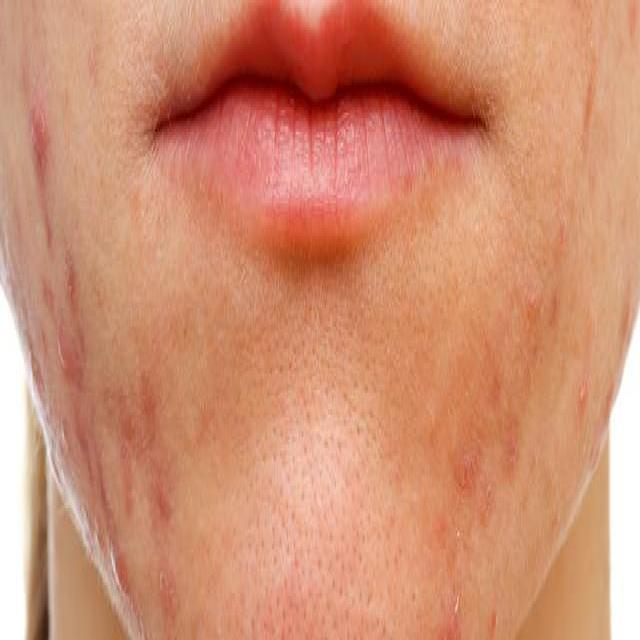Pimples: (49, 277, 86, 393), (26, 96, 54, 192), (106, 524, 138, 602), (156, 464, 176, 514)
